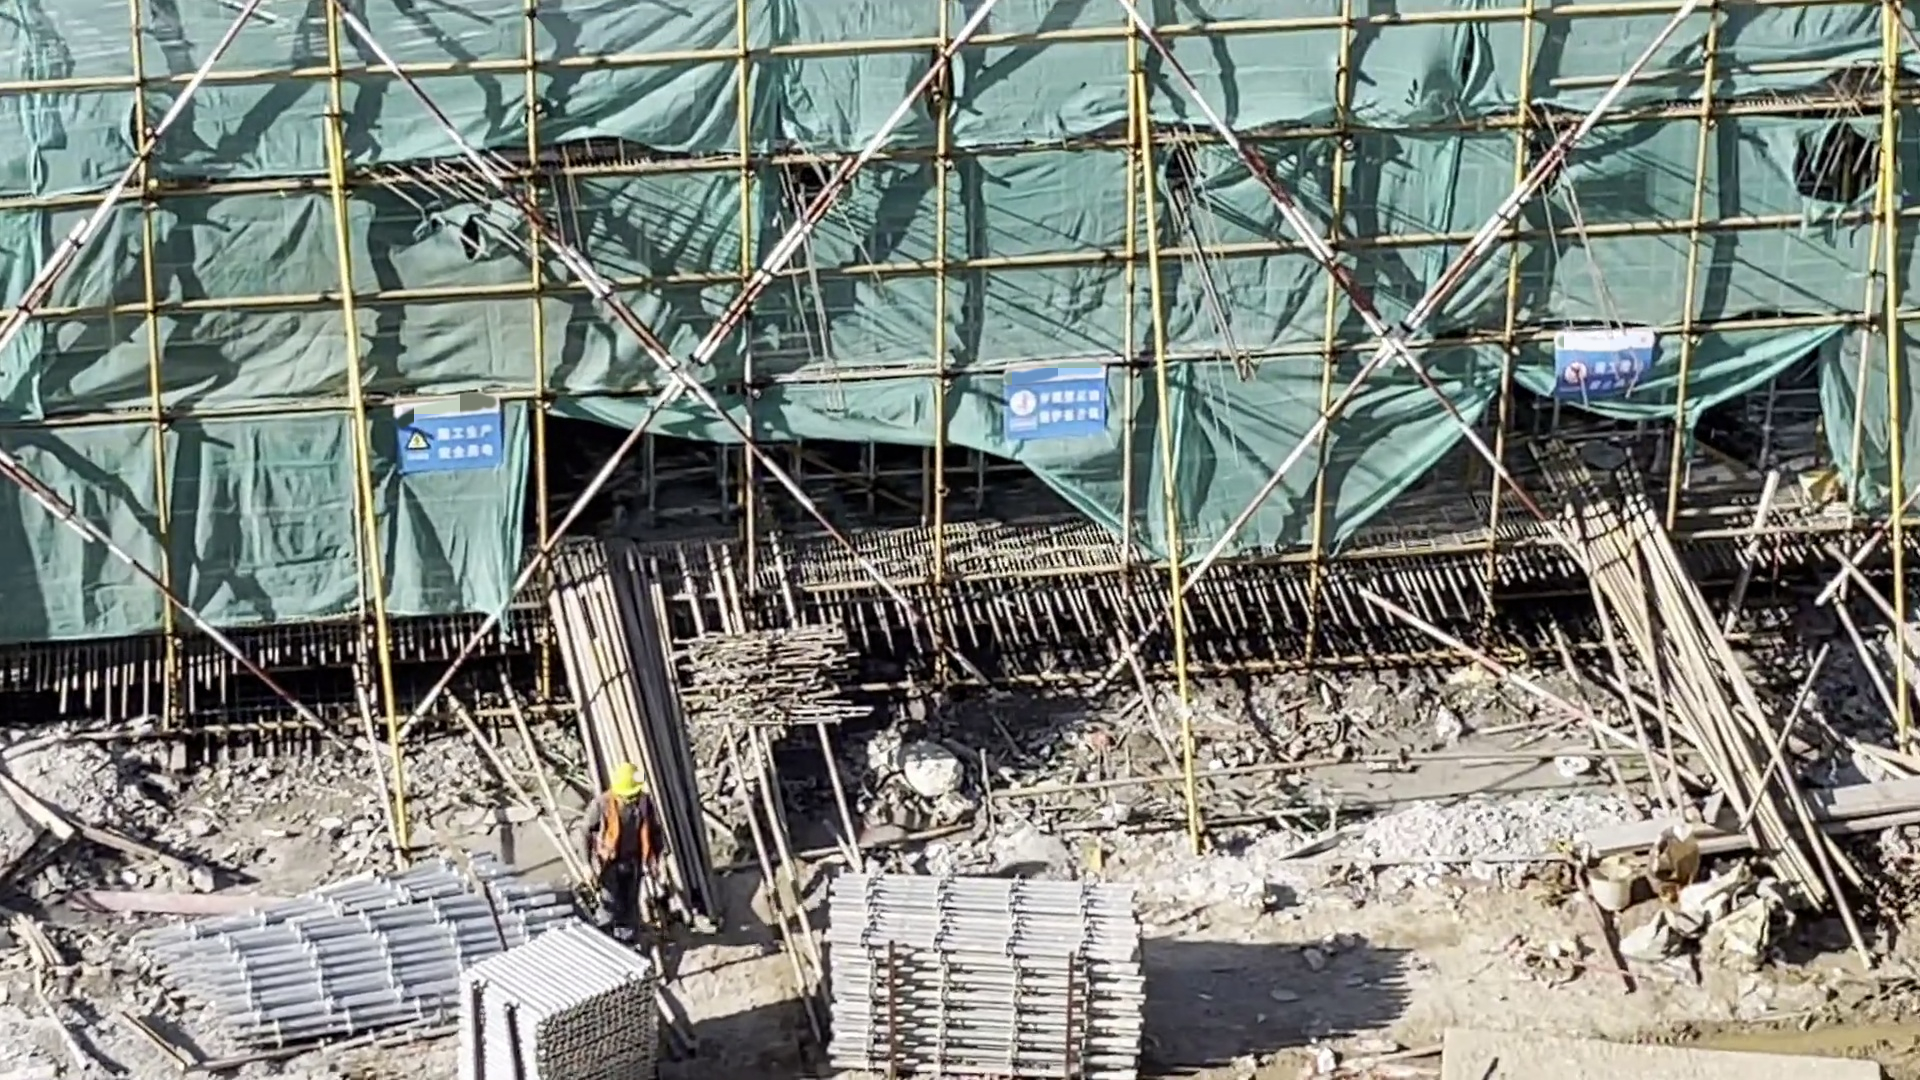helmet: (613, 751, 646, 802)
person: (586, 746, 656, 930)
scaffold: (101, 879, 631, 1059), (818, 849, 1136, 1080), (503, 922, 655, 1080)
slogan: (1003, 367, 1126, 461), (391, 404, 513, 471), (1554, 321, 1651, 384)
vest: (591, 794, 654, 862)
